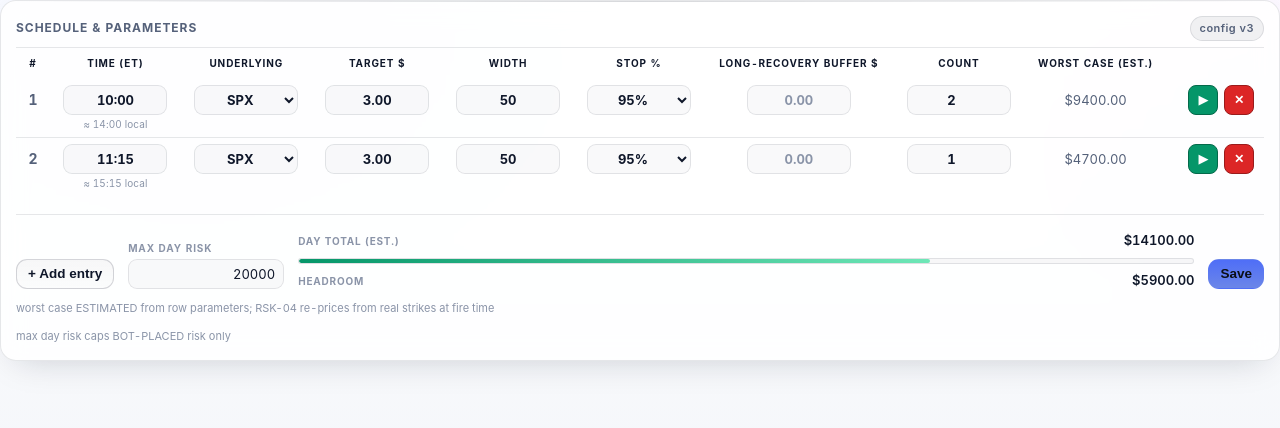
server-side validation (UI-03) › renders a schedule-level error (index null) without blaming a row
Check: the table is shown, box [16,56,1264,196]
Click the button "Save".
click(1236, 274)  # box [1208,259,1264,289]
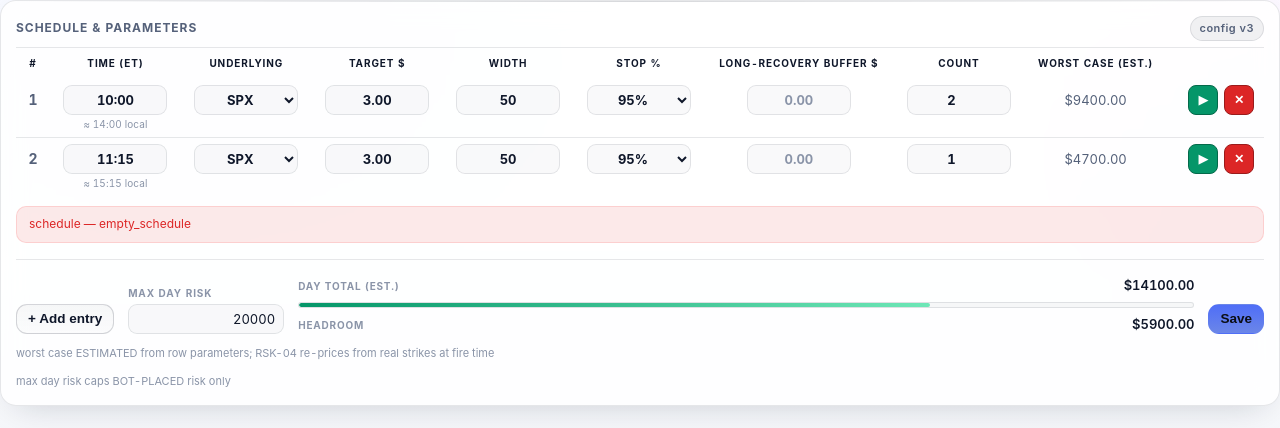
Check: the text "schedule — empty_schedule" is shown, box [16,206,1264,243]
